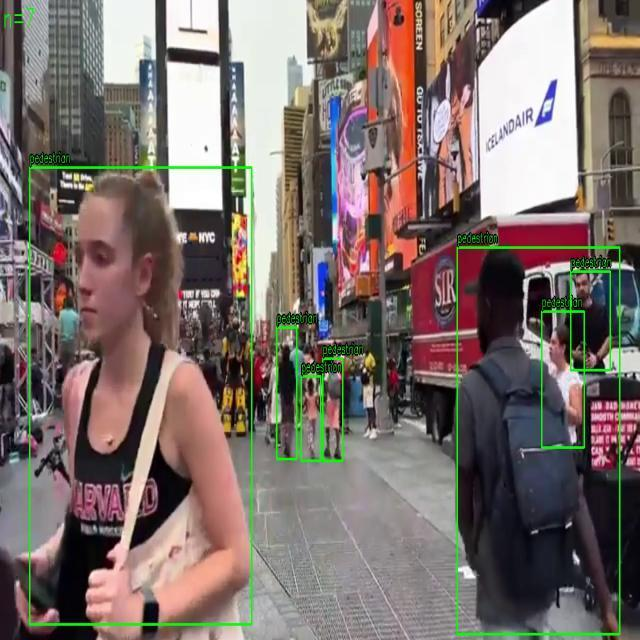person: (29, 167, 252, 625), (457, 247, 620, 635), (542, 311, 584, 448), (570, 271, 610, 371), (276, 327, 298, 460), (323, 358, 343, 462), (301, 376, 321, 462)
